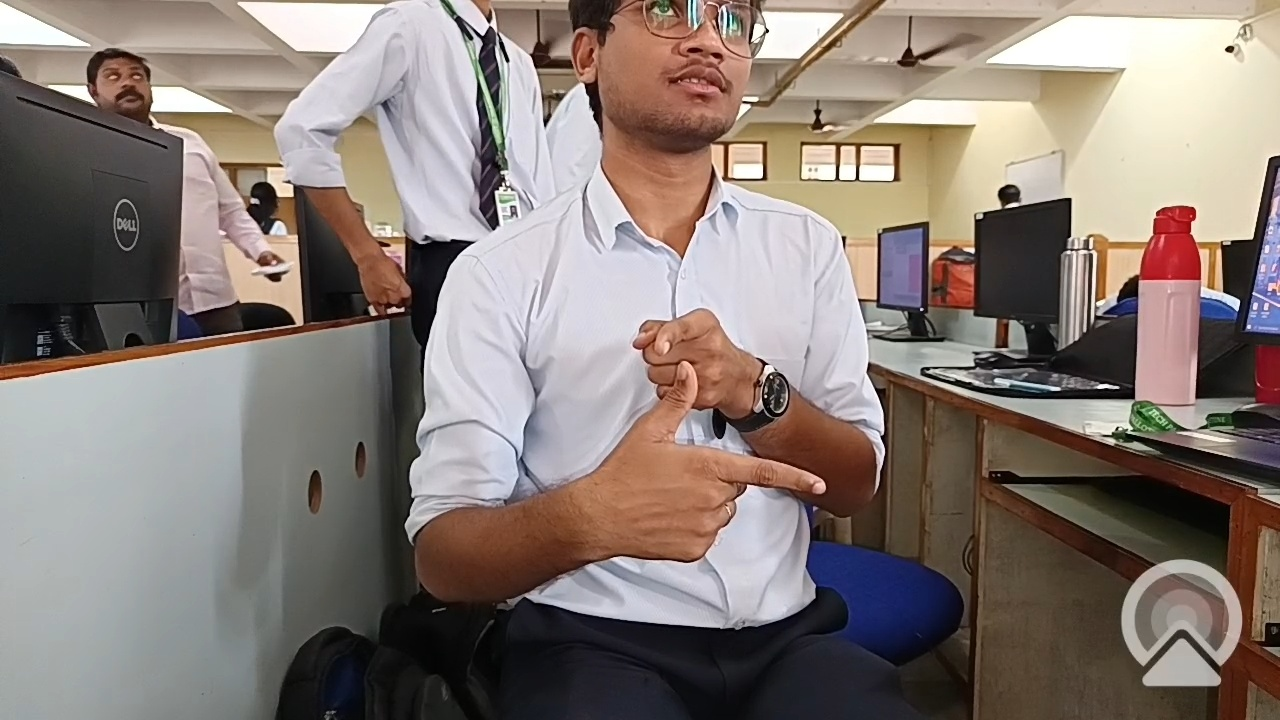J: (553, 287, 839, 626)
